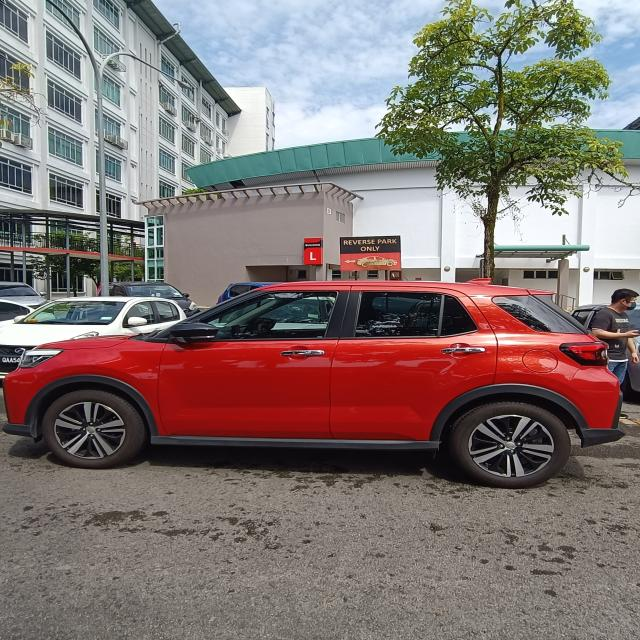PeroduaAtiva: (1, 277, 626, 489)
